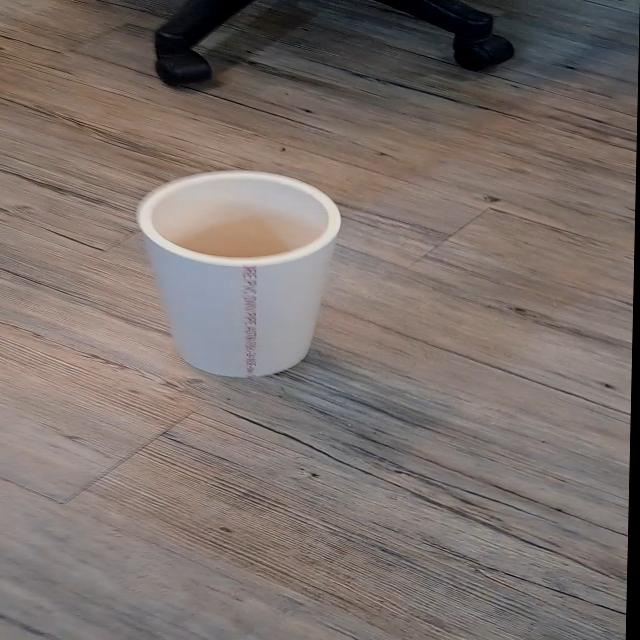CORAL: (116, 168, 360, 392)
